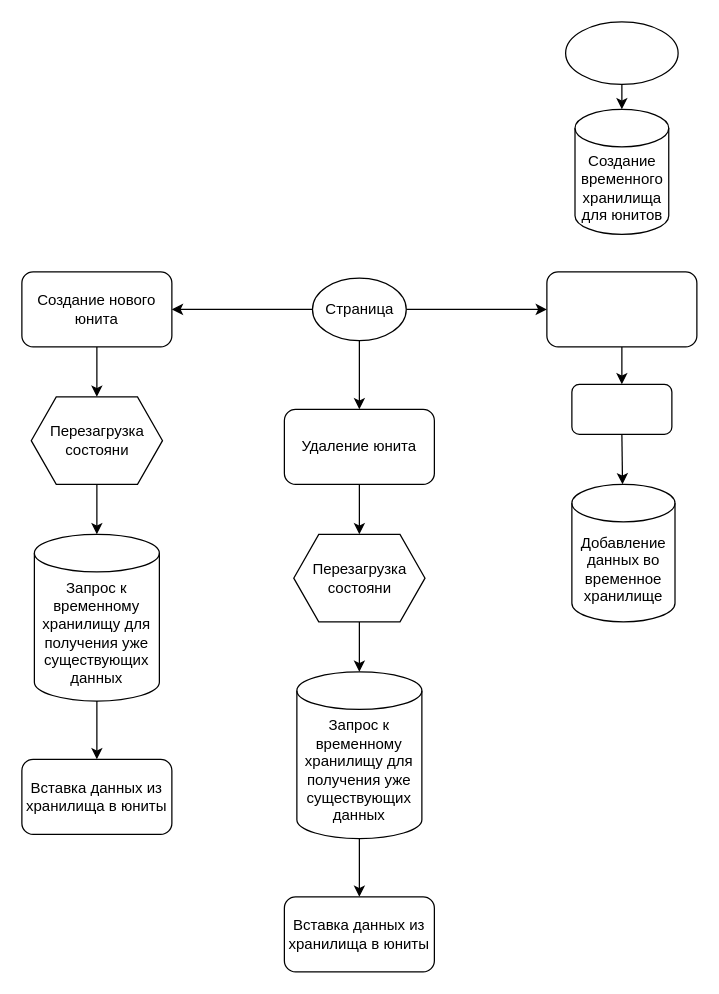
The diagram is 719 pixels wide and 994 high, and some of its shapes have lost their labels. Here are the shapes that lost their labels. From the top down, the centre of each, then its label:
At (x=621, y=52): "Вход на страницу".
At (x=621, y=309): "Пользователь вписывает данные в юнит".
At (x=621, y=408): "Debaunce".
